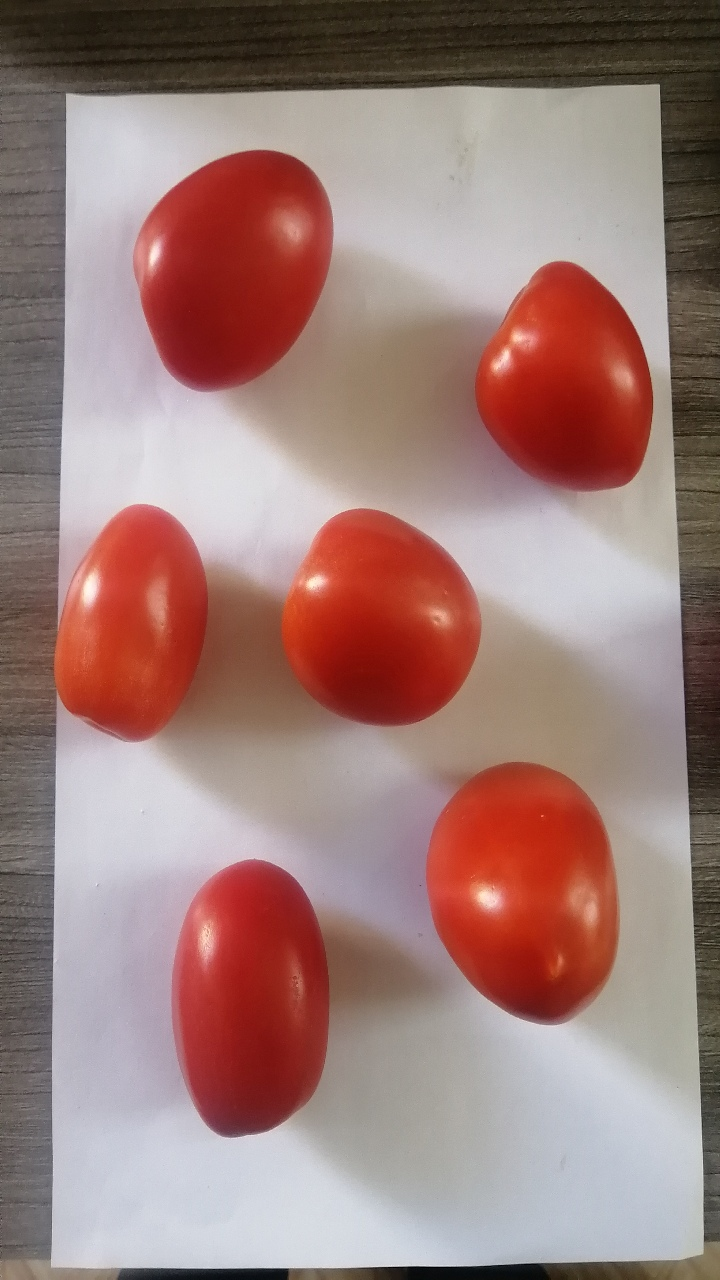tomateRojo: (104, 129, 361, 437), (454, 226, 683, 532), (411, 737, 634, 1051), (257, 485, 495, 751), (158, 845, 351, 1155), (31, 477, 231, 769)
